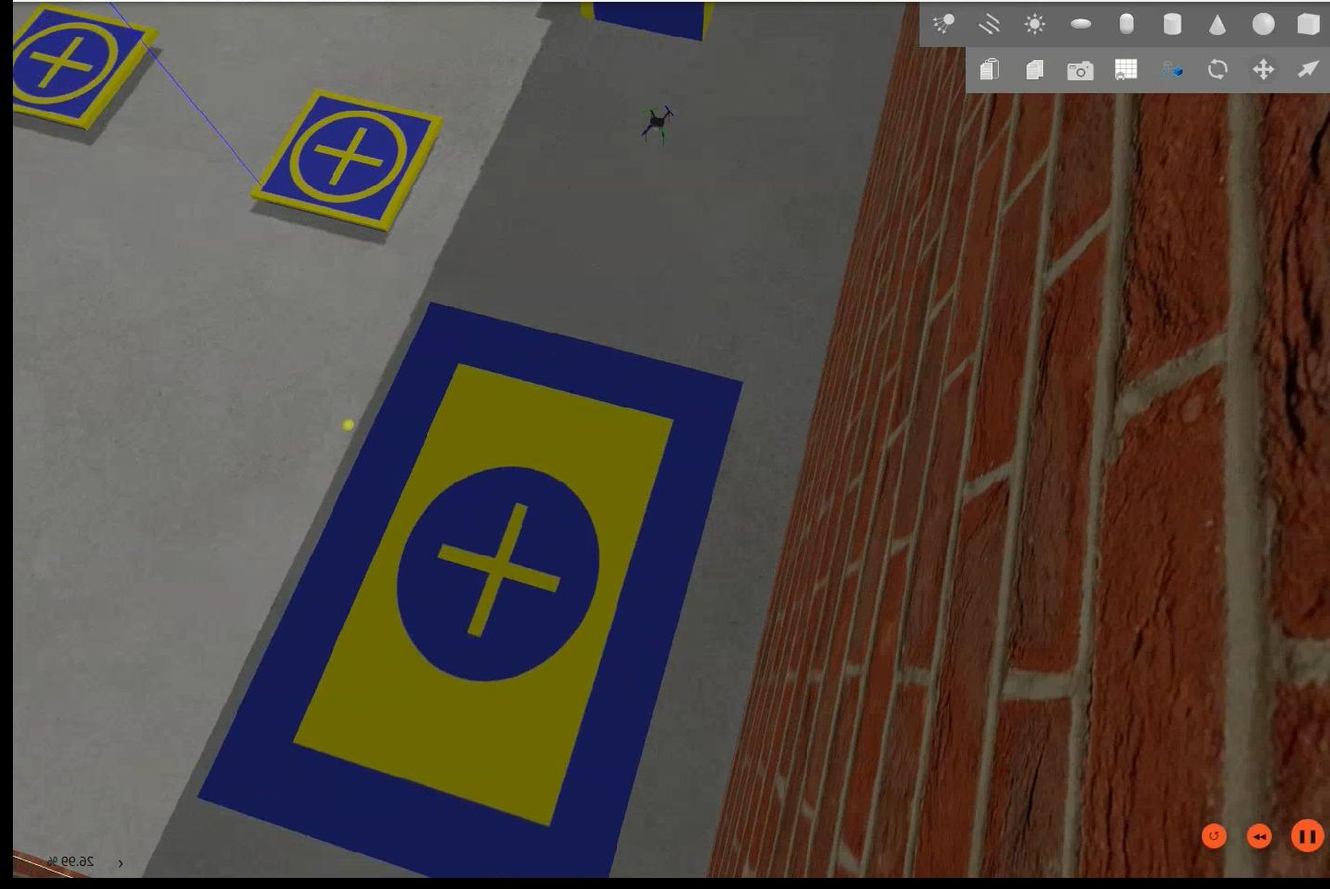large_base: (200, 301, 744, 879)
small_base: (253, 89, 441, 232), (15, 6, 153, 131)
